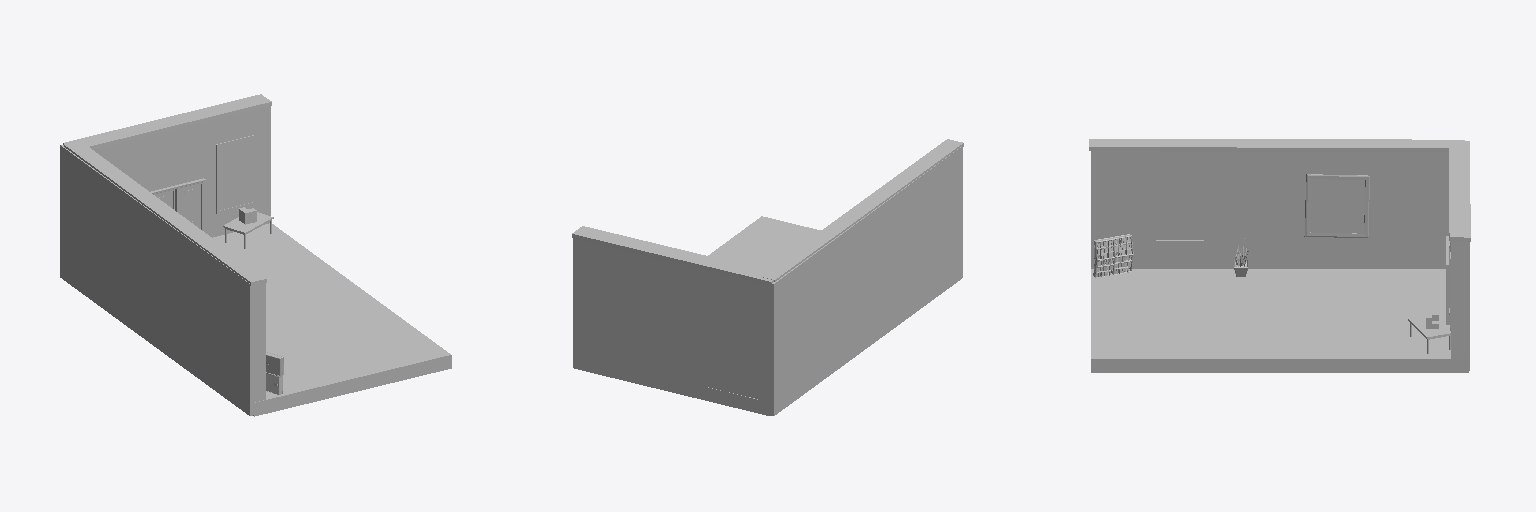
File: casa de lidia.obj
The picture shows the model from 3 angles: view 1: azimuth 30°, elevation 25°; view 2: azimuth 150°, elevation 25°; view 3: azimuth 270°, elevation 25°; orthographic projection.
Visible parts, largest first — view 1: Cubo.002, Cubo, Cubo.004, Cubo.008, model.002, Cubo.007, Door2, model.003; view 2: Cubo.002, Cubo.004, Cubo, Cubo.008, Cubo.007; view 3: Cubo, Cubo.002, Cubo.008, group[number redacted], model.001, Cubo.004, Cubo.007, model.003.
Boxes of the visible parts, x1,y1,x2,y2 form: Cubo.002: [60, 145, 265, 415]; Cubo: [213, 223, 451, 416]; Cubo.004: [94, 106, 270, 237]; Cubo.008: [64, 141, 266, 285]; model.002: [216, 135, 254, 213]; Cubo.007: [63, 94, 271, 149]; Door2: [175, 178, 205, 230]; model.003: [223, 212, 273, 248]; Cubo.002: [758, 146, 962, 415]; Cubo.004: [573, 238, 757, 398]; Cubo: [574, 216, 820, 415]; Cubo.008: [759, 139, 963, 281]; Cubo.007: [572, 226, 773, 285]; Cubo: [1091, 269, 1468, 372]; Cubo.002: [1091, 151, 1448, 268]; Cubo.008: [1089, 139, 1464, 151]; group[number redacted]: [1304, 174, 1369, 237]; model.001: [1153, 173, 1205, 242]; Cubo.004: [1450, 242, 1469, 370]; Cubo.007: [1449, 141, 1470, 241]; model.003: [1408, 316, 1450, 353].
Bounding box in the file's own units: 8.48 × 5.46 × 13.91.